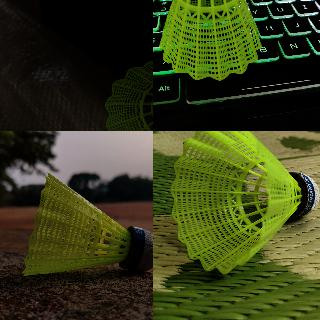shuttlecock: (171, 131, 319, 274), (21, 173, 152, 280), (159, 0, 262, 83), (105, 60, 152, 130)
